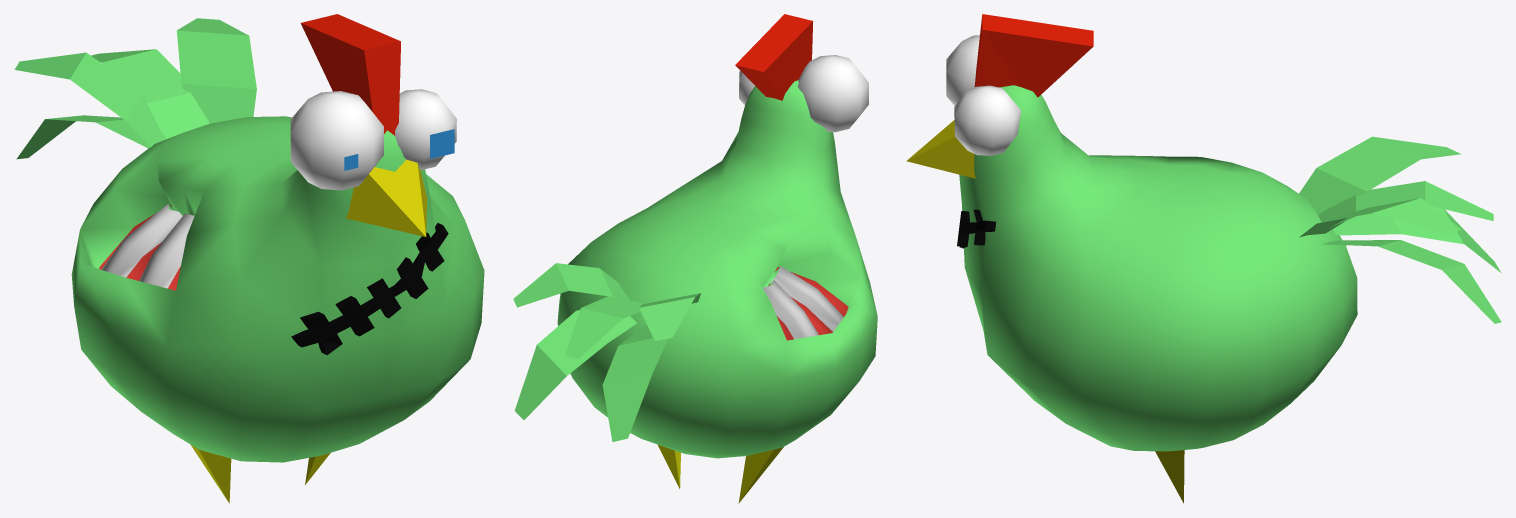
Rendered from GalinhaZumbi.dae.
The picture shows the model from 3 angles, left to right: view 1: azimuth 30°, elevation 25°; view 2: azimuth 150°, elevation 25°; view 3: azimuth 270°, elevation 25°; orthographic projection. The views are drawn at different scales.
Parts seen in each view (by area): view 1: Body, Pena, Sphere_002, Cube, Cube_001, Bico, LLeg, Eye; view 2: Body, Pena, Sphere_002, Cube, LLeg; view 3: Body, Pena, Cube, Sphere_002, Bico, Cube_001, LLeg.
Part boxes in pixels (left/top/right/bottom): Body: left=71, top=116, right=484, bottom=462; Pena: left=14, top=18, right=256, bottom=159; Sphere_002: left=290, top=89, right=456, bottom=190; Cube: left=300, top=14, right=400, bottom=135; Cube_001: left=291, top=223, right=448, bottom=355; Bico: left=346, top=159, right=427, bottom=236; LLeg: left=190, top=444, right=330, bottom=503; Eye: left=344, top=129, right=454, bottom=170; Body: left=557, top=80, right=877, bottom=458; Pena: left=513, top=263, right=700, bottom=441; Sphere_002: left=739, top=55, right=868, bottom=132; Cube: left=735, top=14, right=813, bottom=100; LLeg: left=658, top=445, right=783, bottom=503; Body: left=959, top=85, right=1357, bottom=451; Pena: left=1299, top=136, right=1501, bottom=323; Cube: left=974, top=14, right=1093, bottom=97; Sphere_002: left=946, top=35, right=1020, bottom=155; Bico: left=906, top=120, right=975, bottom=178; Cube_001: left=957, top=209, right=995, bottom=248; LLeg: left=1155, top=450, right=1184, bottom=503.
Bounding box in the file's own units: 1.98 × 3.28 × 2.84.
